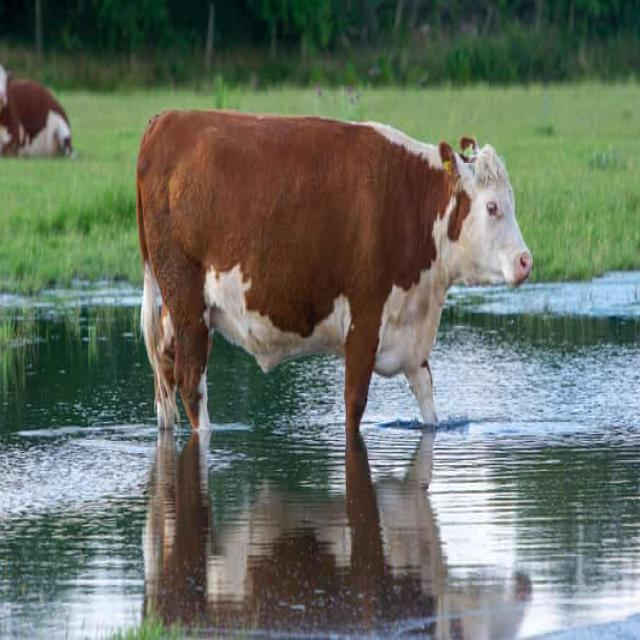cow: (108, 74, 556, 413)
